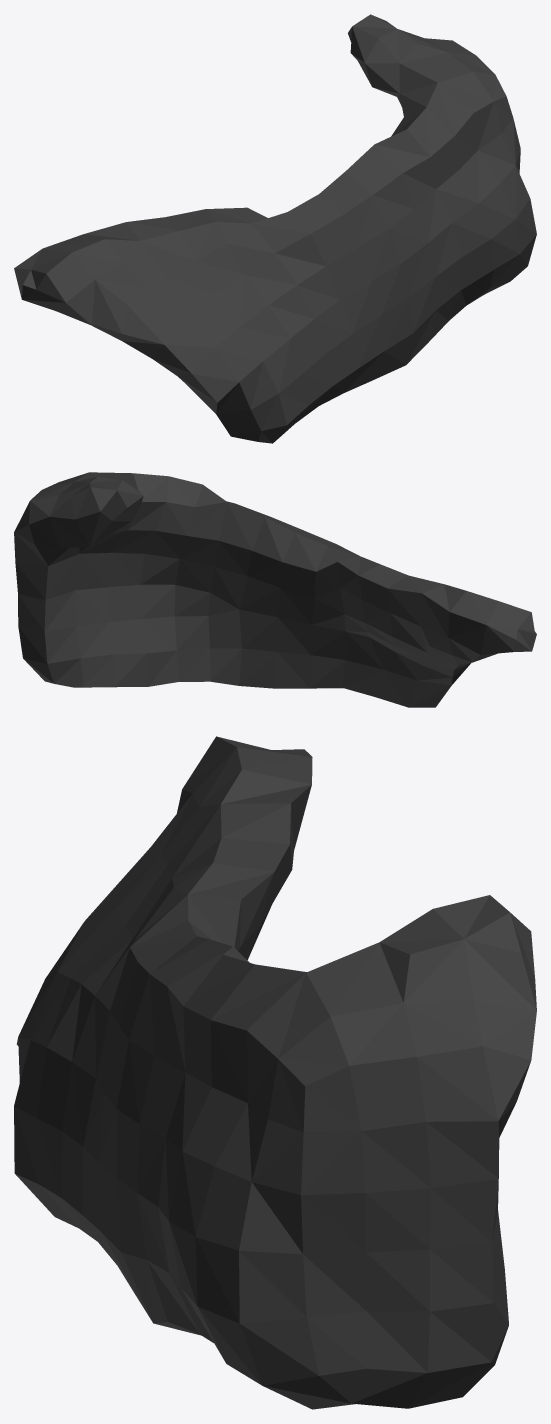
File: PULMONARY_ARTERY.glb
3 renders of one model, top to bottom at view 1: azimuth 30°, elevation 25°; view 2: azimuth 150°, elevation 25°; view 3: azimuth 270°, elevation 25°, orthographic. The views are drawn at different scales.
Parts seen in each view (by area): view 1: PULMONARY_ARTERY; view 2: PULMONARY_ARTERY; view 3: PULMONARY_ARTERY.
Boxes of the visible parts, x1,y1,x2,y2 form: PULMONARY_ARTERY: (14,14,536,443); PULMONARY_ARTERY: (14,472,536,707); PULMONARY_ARTERY: (14,736,536,1409).
Size of the model in its own units: 33.47 by 17.27 by 16.35.
Materials: 1 (1 with a texture image).
